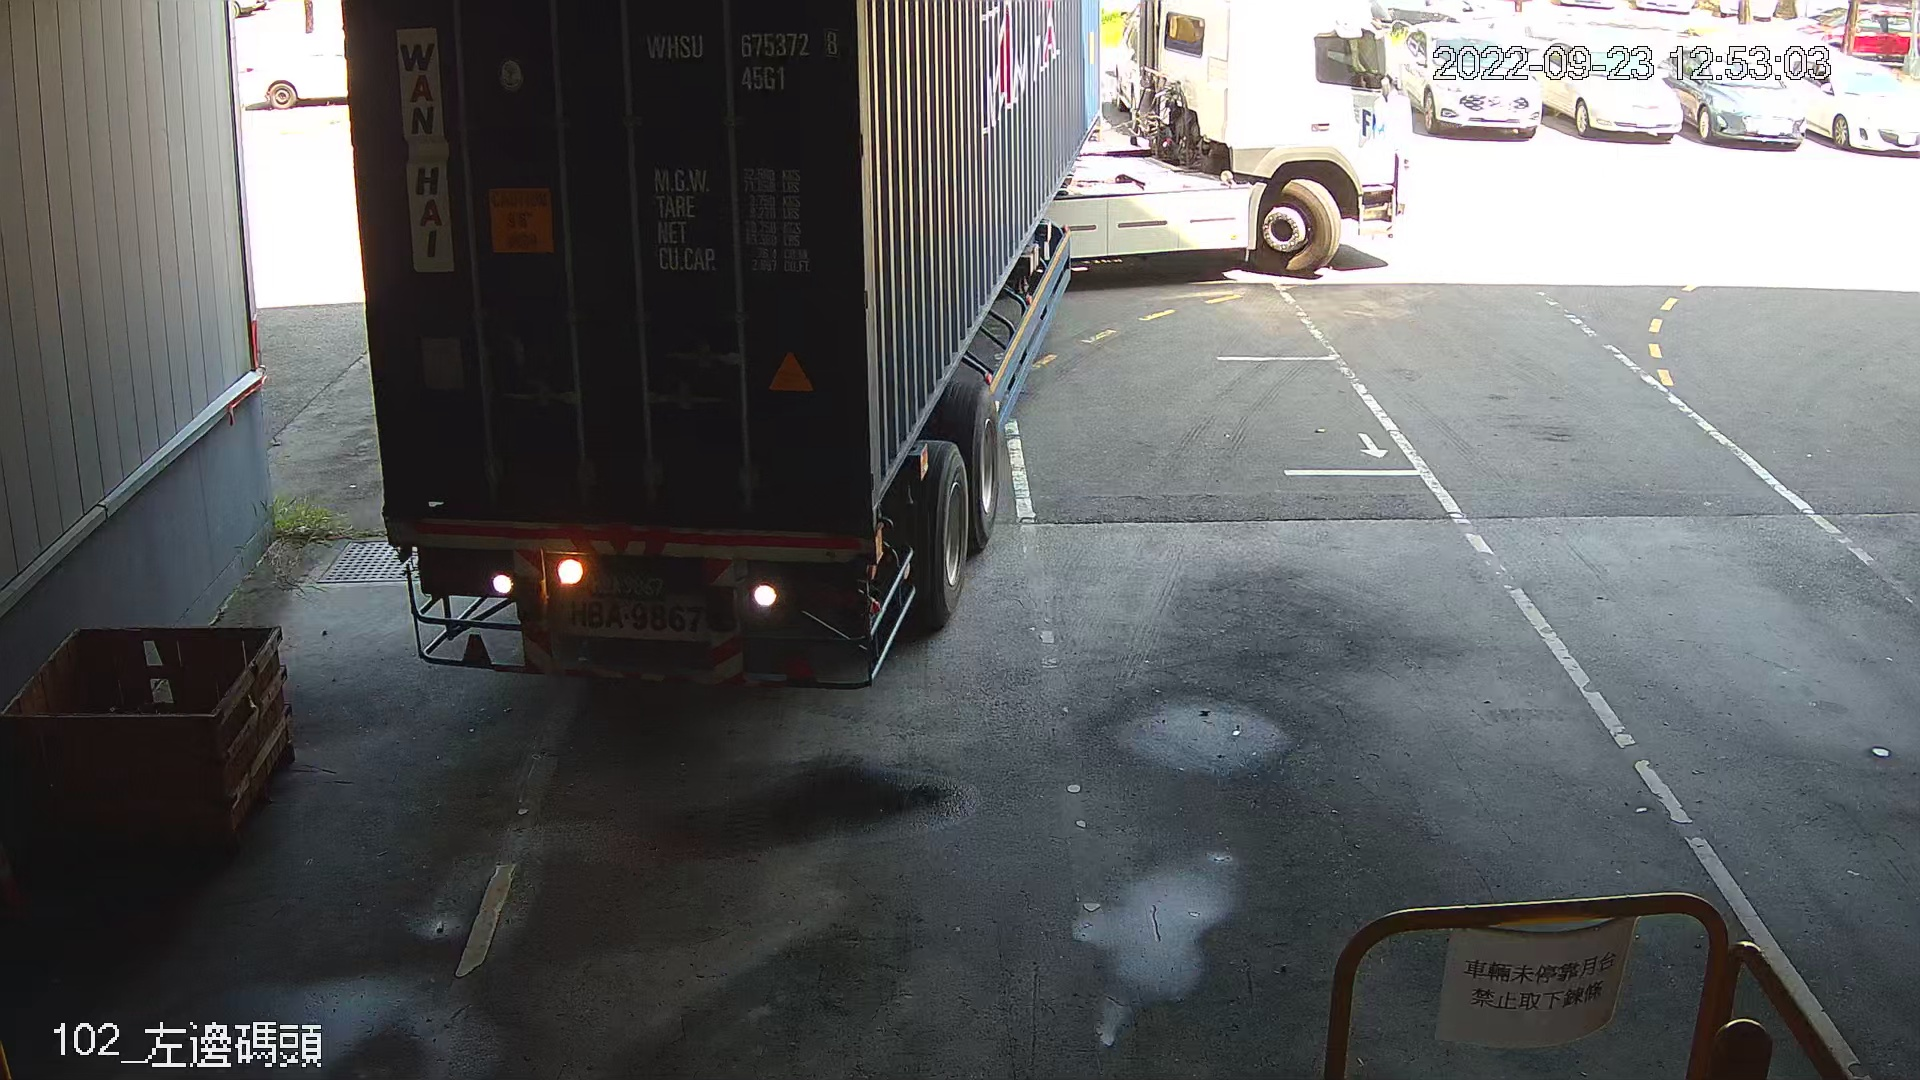container: (636, 20, 847, 99)
